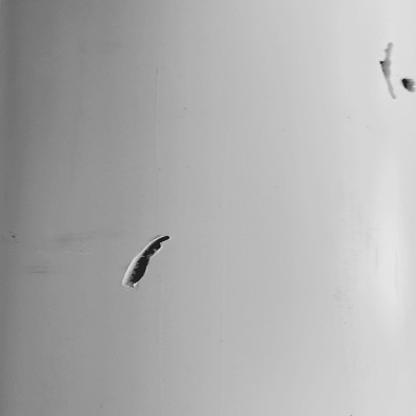kongdong: (119, 230, 180, 289), (379, 35, 397, 110), (395, 73, 416, 94)
